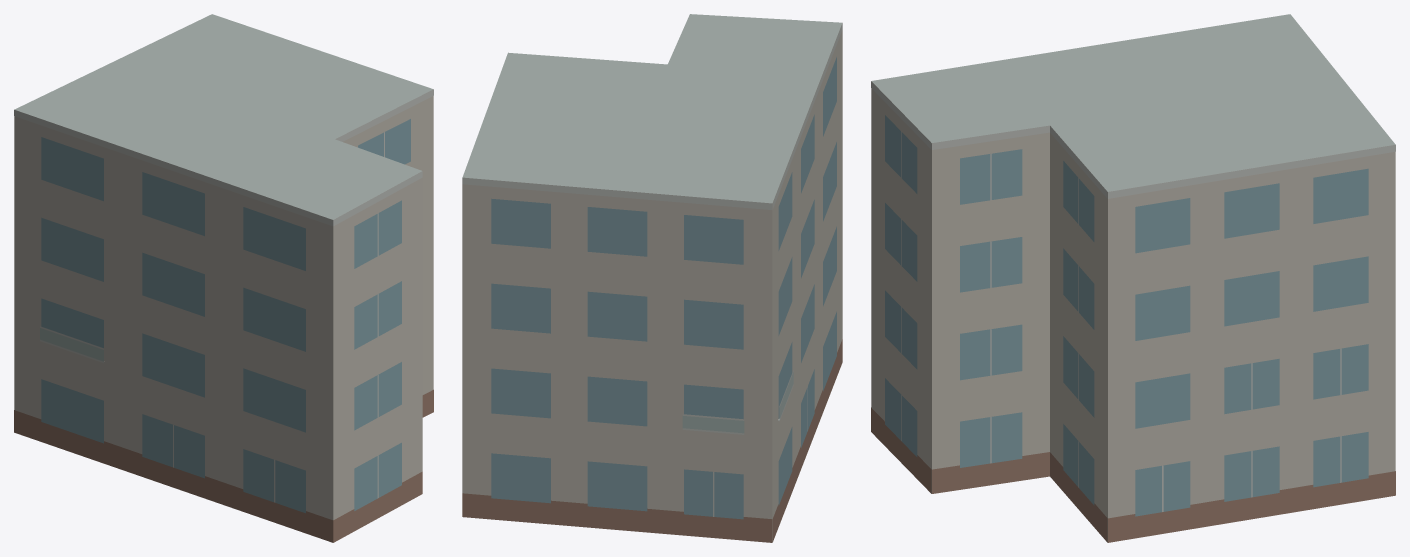
File: survey-upis-32842347.glb
3 renders of one model, left to right at view 1: azimuth 30°, elevation 25°; view 2: azimuth 150°, elevation 25°; view 3: azimuth 270°, elevation 25°, orthographic. The views are drawn at different scales.
Visible parts, largest first — view 1: survey-upis-32842347.tmp; view 2: survey-upis-32842347.tmp; view 3: survey-upis-32842347.tmp.
Part boxes in pixels (box(x1,y1,x2,y2)): survey-upis-32842347.tmp: box(14, 14, 433, 542); survey-upis-32842347.tmp: box(462, 14, 842, 542); survey-upis-32842347.tmp: box(871, 14, 1395, 542).
Size of the model in its own units: 13.3 by 12.22 by 16.57.
